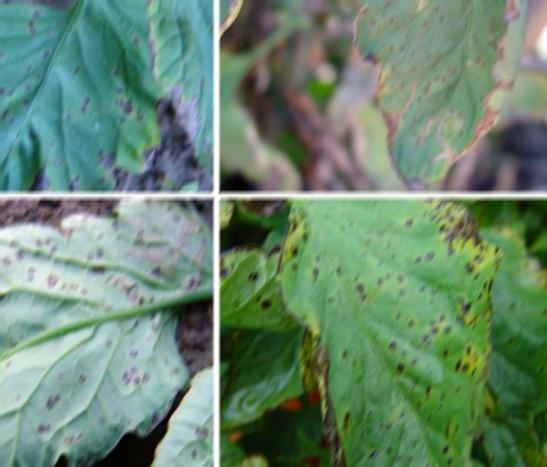Tomato leaf bacterial spot: (258, 196, 502, 467), (0, 204, 195, 467), (333, 0, 522, 190), (0, 0, 153, 187)
